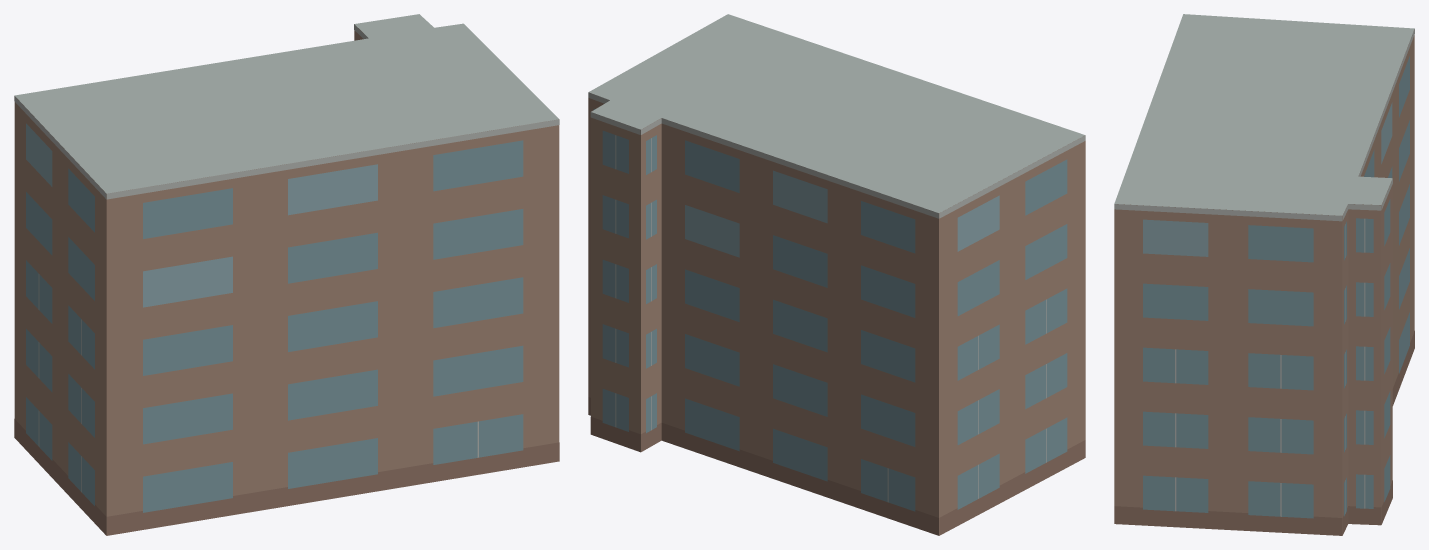
File: survey-upis-32958375.glb
The picture shows the model from 3 angles, left to right: view 1: azimuth 30°, elevation 25°; view 2: azimuth 150°, elevation 25°; view 3: azimuth 270°, elevation 25°; orthographic projection. The views are drawn at different scales.
Visible parts, largest first — view 1: survey-upis-32958375.tmp; view 2: survey-upis-32958375.tmp; view 3: survey-upis-32958375.tmp.
Part boxes in pixels (x1=…): survey-upis-32958375.tmp: x1=14, y1=14, x2=559, y2=535; survey-upis-32958375.tmp: x1=588, y1=14, x2=1085, y2=535; survey-upis-32958375.tmp: x1=1114, y1=14, x2=1414, y2=535.
Size of the model in its own units: 19.21 by 14.2 by 12.09.
